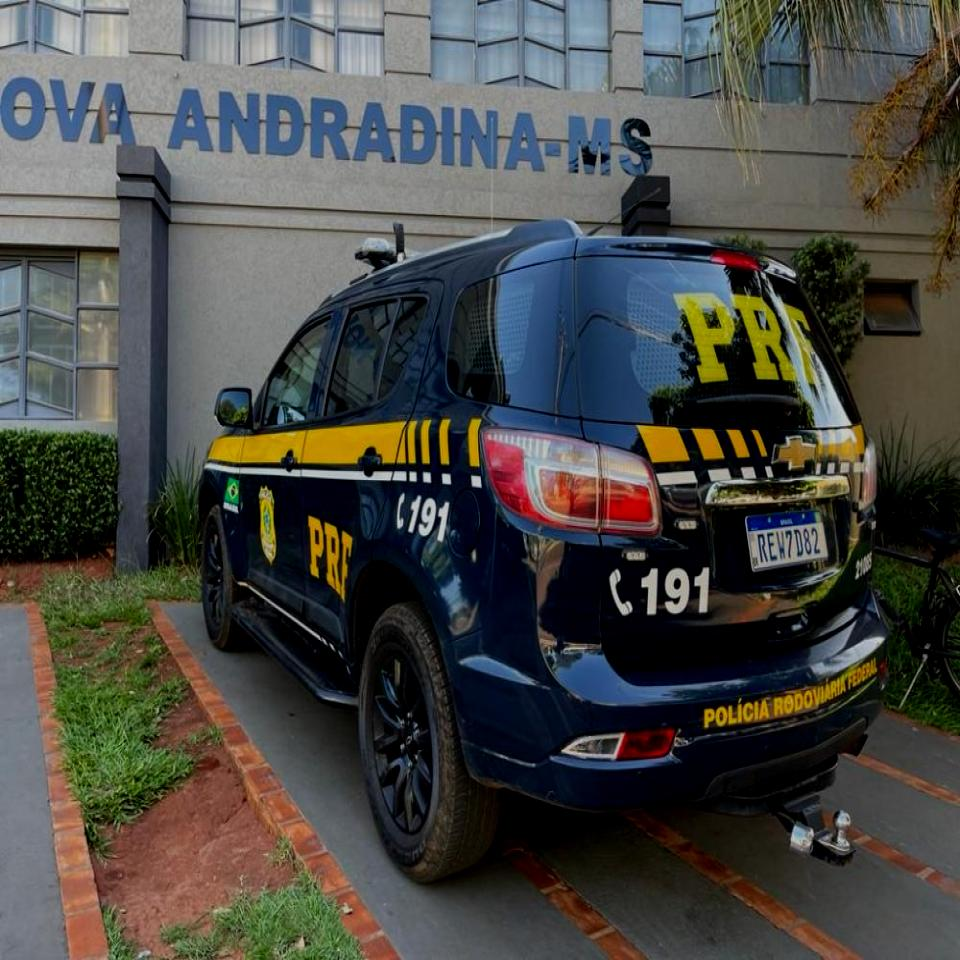viatura: (195, 219, 895, 889)
